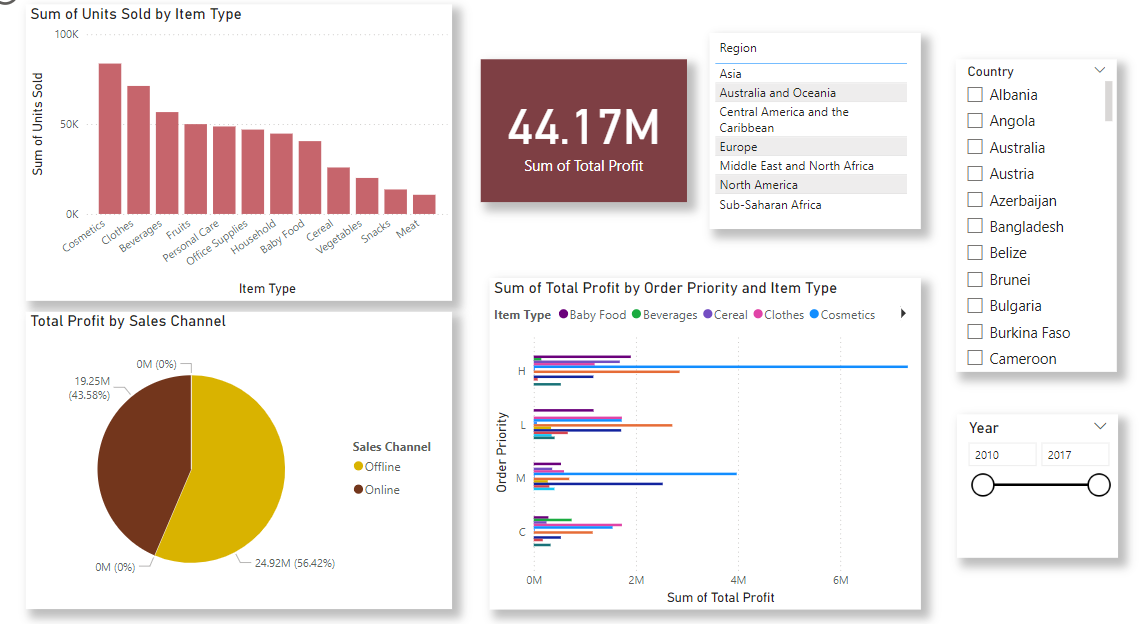

Layout of this report page (visuals, bound fields, positions):
{"tool":"powerbi","page":{"name":"Page 2","canvas":[1280,720],"ordinal":1},"visuals":[{"type":"clusteredColumnChart","fields":{"Category":["preprocessed_amazon_data.Item Type"],"Y":["Sum(preprocessed_amazon_data.Units Sold)"]},"box":[42.5,34.3,467.9,325.2],"z":0},{"type":"clusteredBarChart","fields":{"Category":["preprocessed_amazon_data.Order Priority","preprocessed_amazon_data.Item Type"],"Y":["Sum(preprocessed_amazon_data.Total Profit)"],"Series":["preprocessed_amazon_data.Item Type"]},"box":[551.6,334.8,473.4,363.6],"z":1000},{"type":"slicer","fields":{"Values":["preprocessed_amazon_data.Country"]},"box":[1064.8,371.9,177,263.5],"z":2000},{"type":"pieChart","title":"Total Profit by Sales Channel","fields":{"Y":["Sum(preprocessed_amazon_data.Total Profit)","CountNonNull(preprocessed_amazon_data.Sales Channel)"],"Category":["preprocessed_amazon_data.Sales Channel"]},"box":[42.5,371.9,467.9,326.6],"z":3000},{"type":"tableEx","fields":{"Values":["preprocessed_amazon_data.Region"]},"box":[1010,64.5,231.9,215.4],"z":4000},{"type":"card","fields":{"Values":["Sum(preprocessed_amazon_data.Total Profit)"]},"box":[654.5,94.7,237.4,156.4],"z":5000}]}

Visuals, with their boxes in screenshot pixels (x1, y1, x2, y2), scaled from the page's 1280x720 canvas onto the 1139x624 screenshot:
clusteredColumnChart - preprocessed_amazon_data.Item Type x Sum(preprocessed_amazon_data.Units Sold): [38, 30, 454, 312]
clusteredBarChart - preprocessed_amazon_data.Order Priority x preprocessed_amazon_data.Item Type: [491, 290, 912, 605]
slicer - preprocessed_amazon_data.Country: [948, 322, 1105, 551]
"Total Profit by Sales Channel" pieChart: [38, 322, 454, 605]
tableEx - preprocessed_amazon_data.Region: [899, 56, 1105, 243]
card - Sum(preprocessed_amazon_data.Total Profit): [582, 82, 794, 218]
